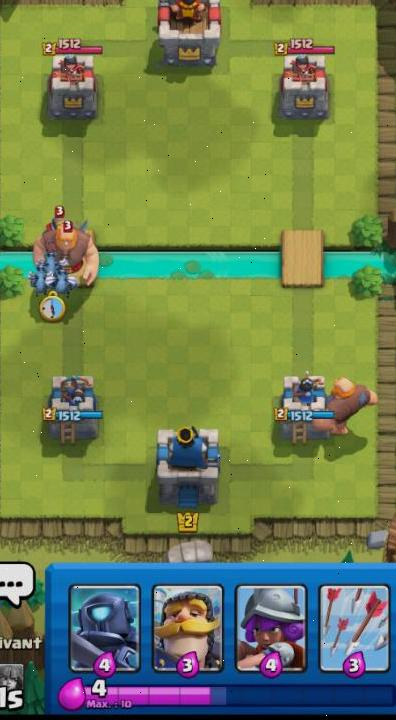enemy_giant: (33, 212, 102, 290)
player_giant: (308, 372, 380, 439)
player_minions: (51, 261, 77, 293), (37, 252, 64, 280), (26, 264, 52, 293)
